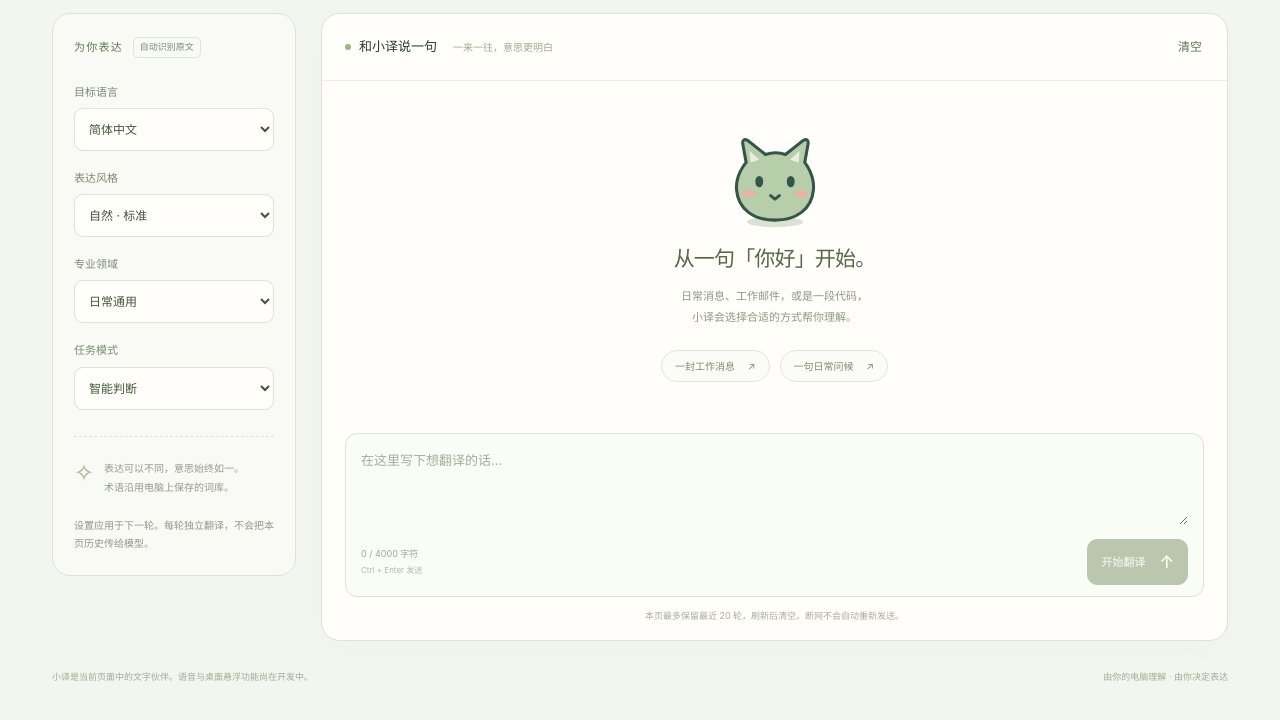
Test: 真实 HTTP 响应到会话状态的回归 › 提交明确返回 HTTP 400 拒绝后允许手动重试，不保留未知任务取消标记
(page scrolled)
Type "Hello" into the text box named "原文" at coordinates (774, 486), box [361, 448, 1188, 525]
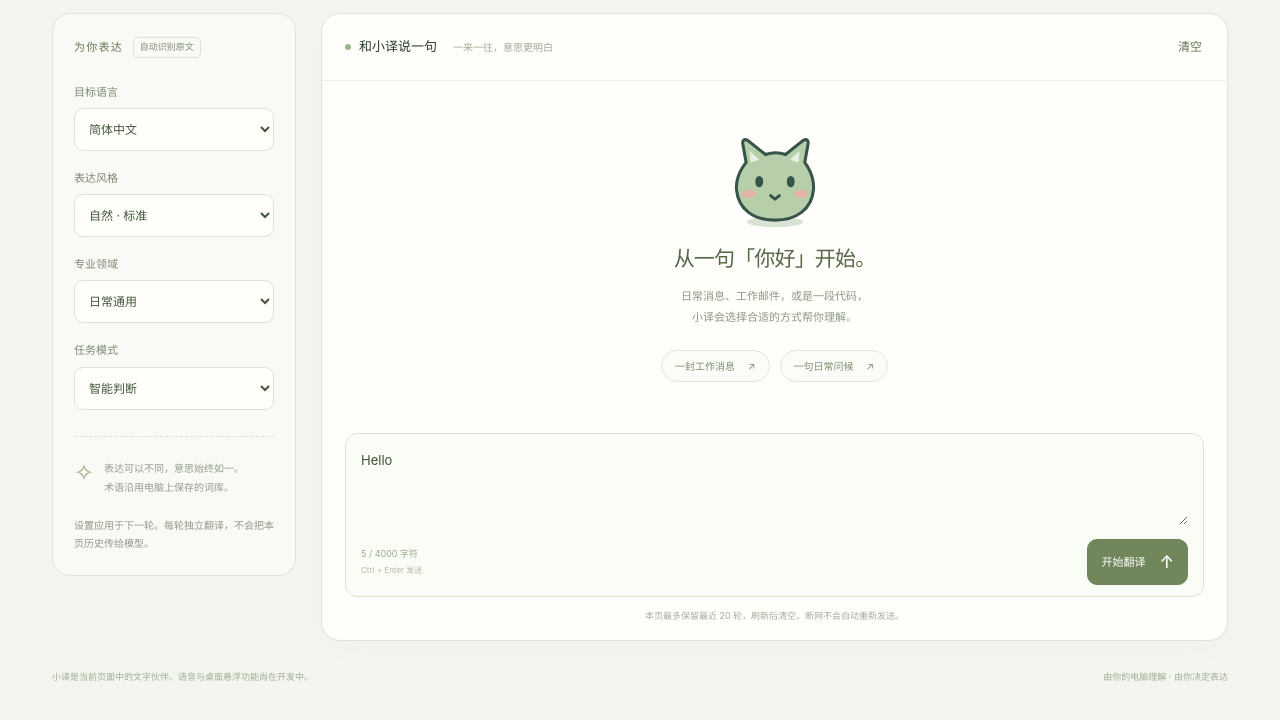
Click the button "开始翻译 ↑" at coordinates (1138, 562), box [1087, 539, 1188, 585]
(page scrolled)
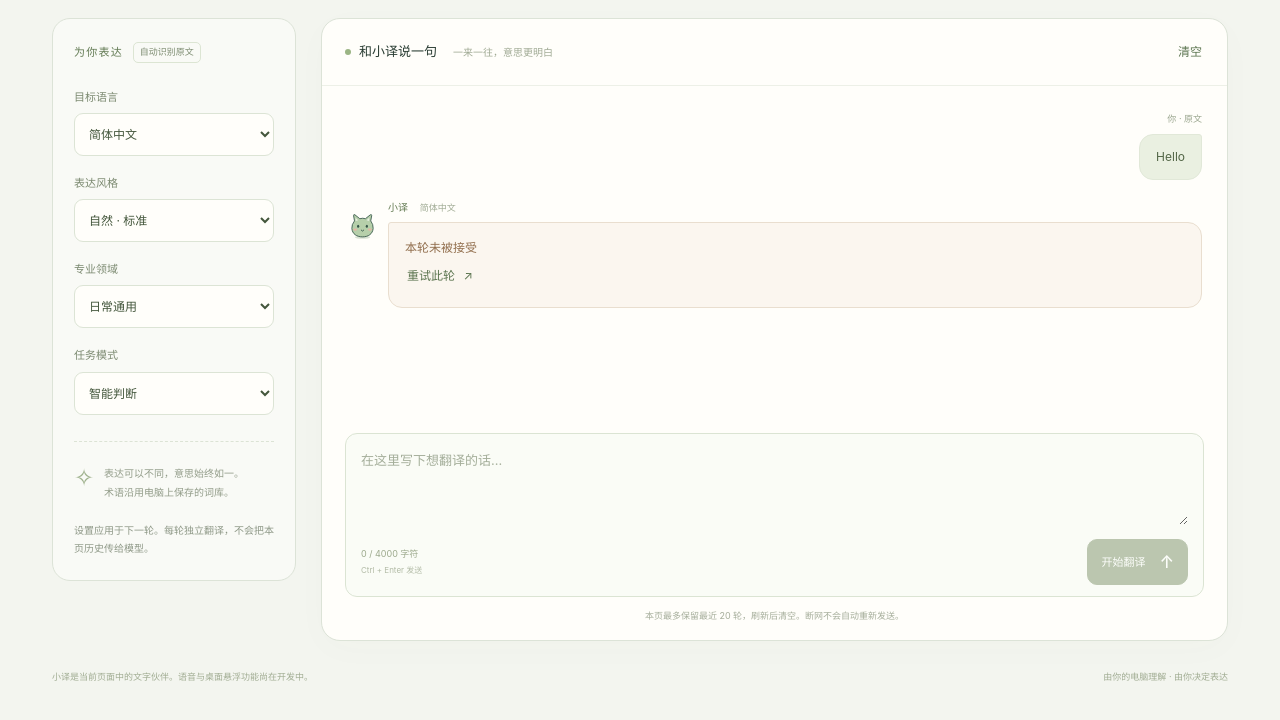
Result: the button "重试此轮 ↗" is enabled at [405, 260, 475, 293]
